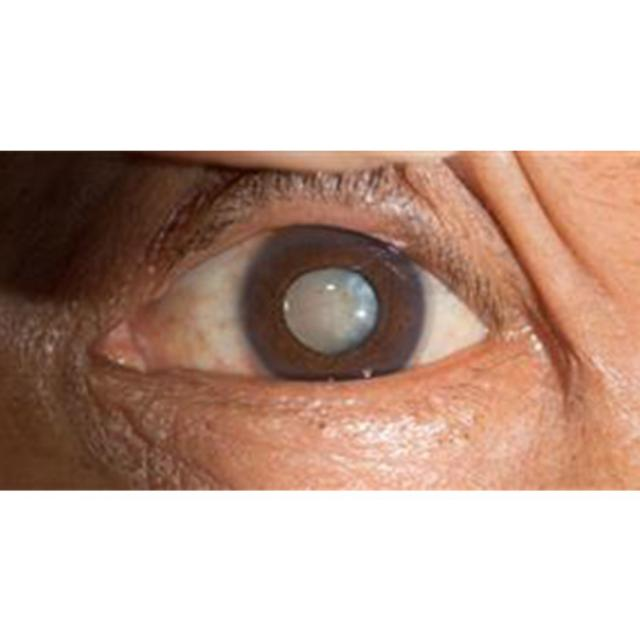eye: (238, 224, 432, 392)
